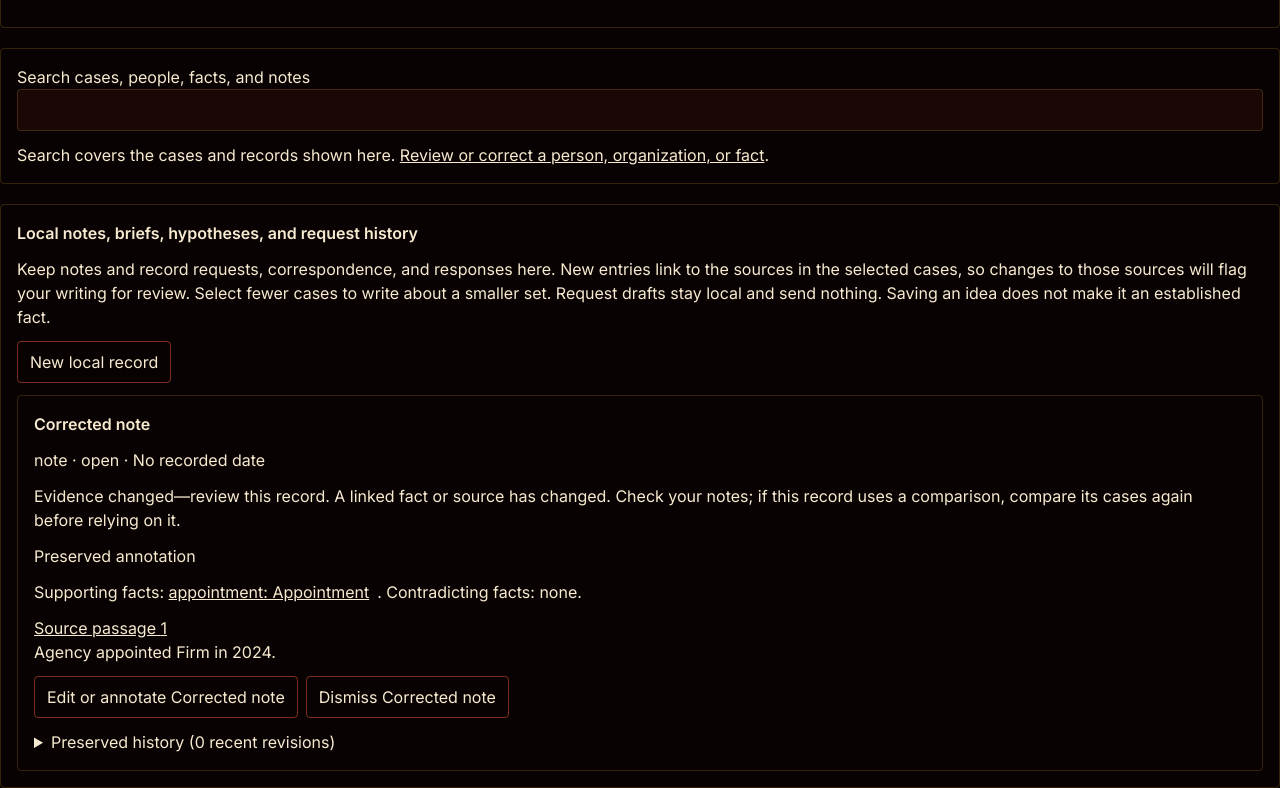
Investigation workspace › can dismiss stale records while removing corrected active links and preserving source dependencies
The image size is (1280, 788).
(page scrolled)
Click the button "Dismiss Corrected note".
click(407, 697)  # box [306,676,509,718]
(page scrolled)
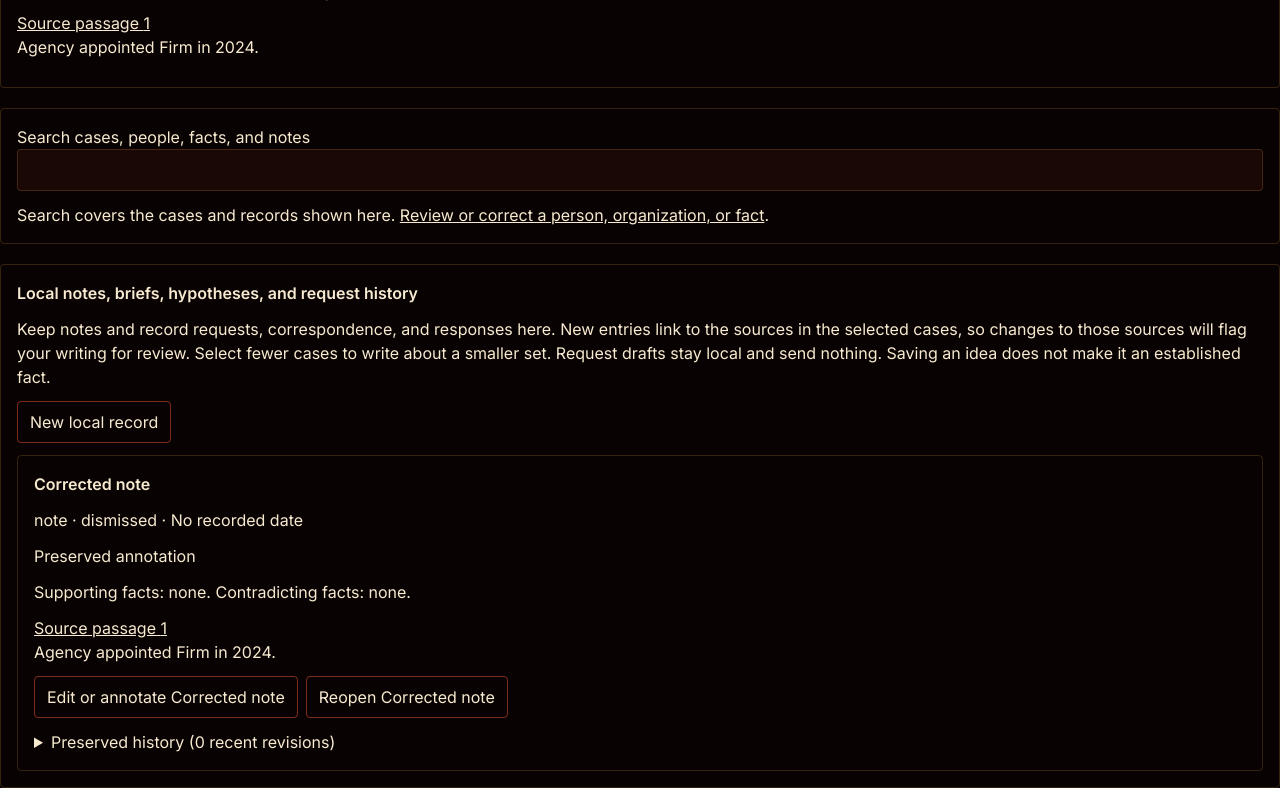
Expected: the button "Reopen Corrected note" is shown, [306,676,508,718]
